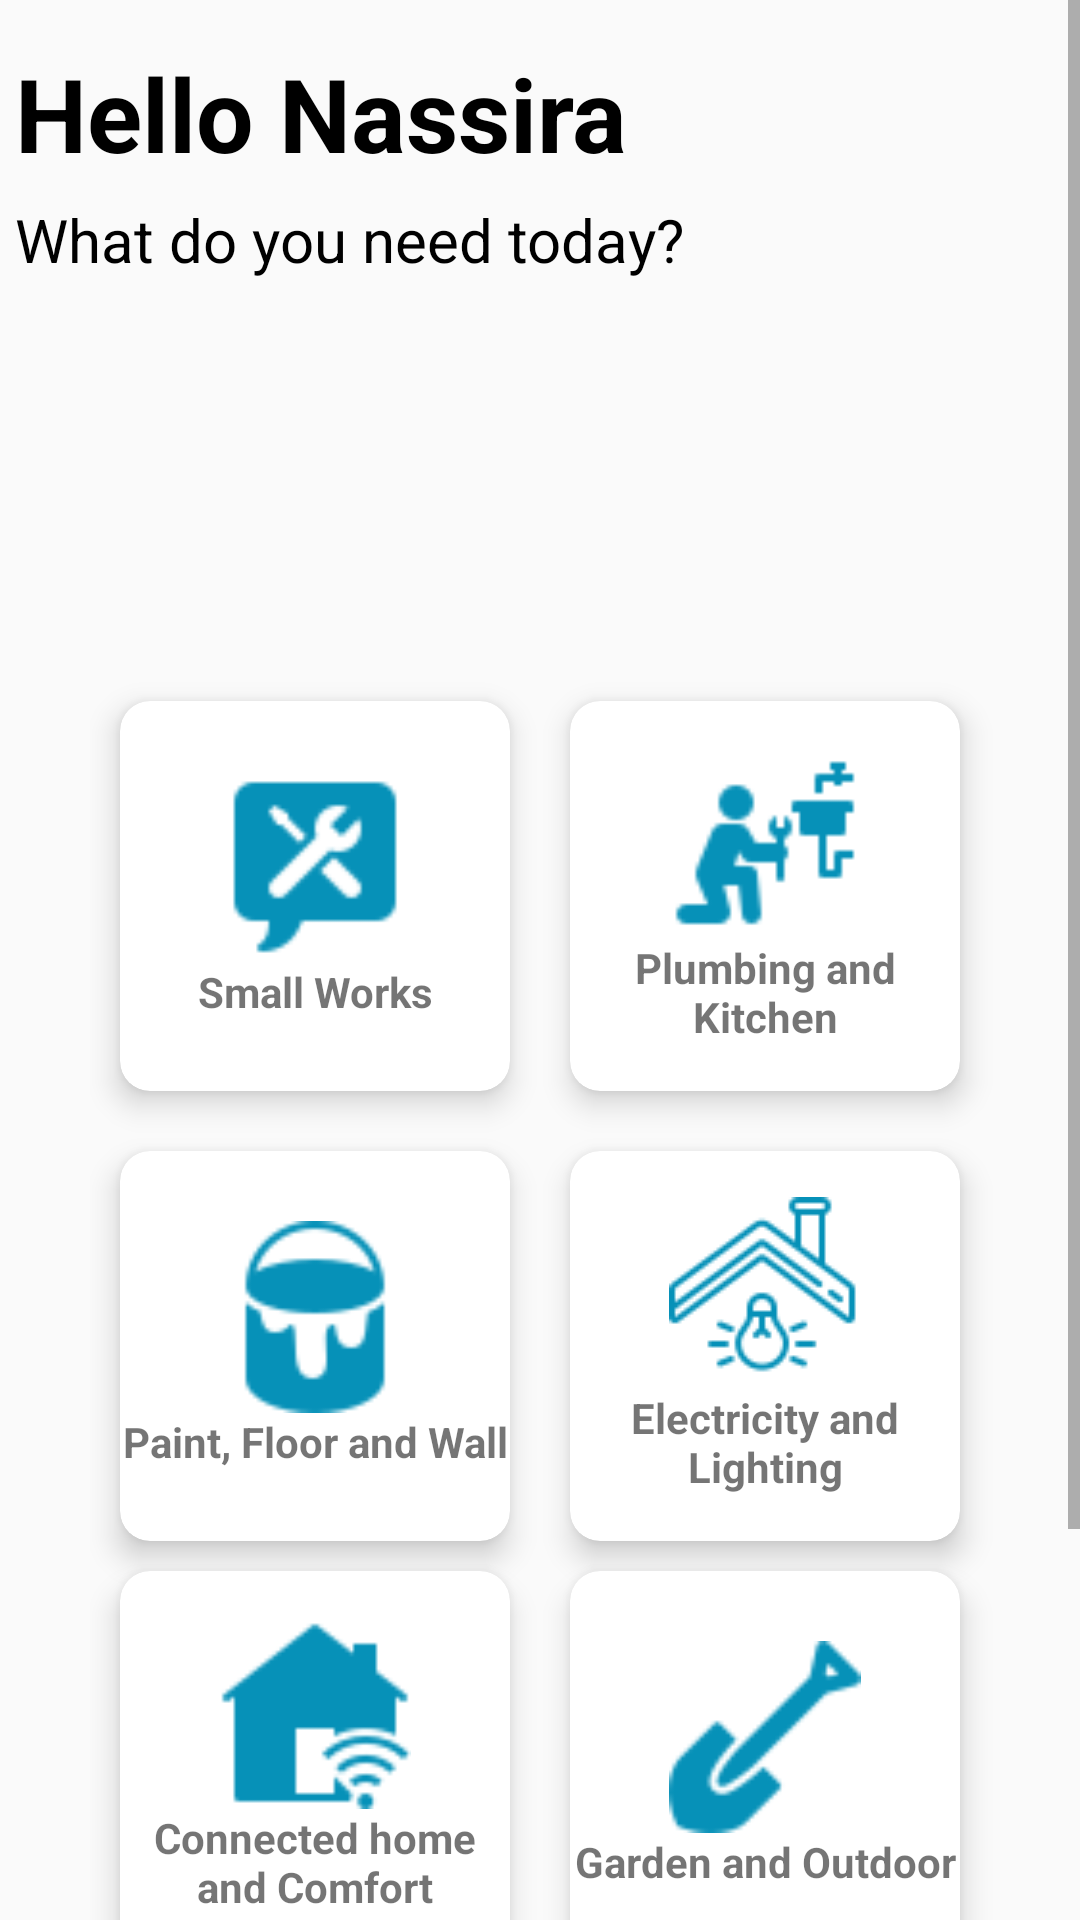

Icons on this 1080×1920 Android screen, each with the point to tap as (x=x, y=y):
spade: (x=765, y=1737)
